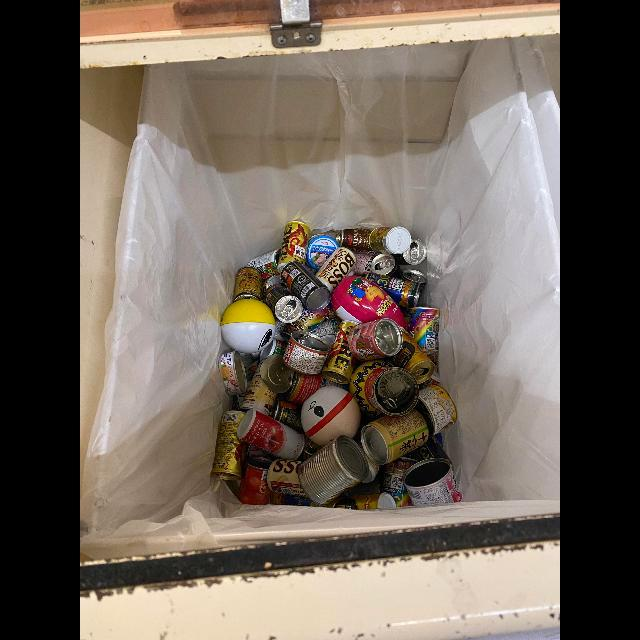aluminum: (299, 435, 367, 504), (361, 410, 428, 465), (237, 409, 305, 461), (403, 458, 463, 506), (365, 366, 420, 416), (211, 411, 250, 480), (390, 326, 435, 384), (281, 261, 331, 312), (348, 317, 403, 362), (323, 320, 359, 384), (283, 330, 331, 375), (414, 385, 457, 435), (239, 360, 277, 415), (280, 303, 332, 342), (283, 372, 343, 405), (366, 272, 421, 308), (315, 247, 357, 293), (382, 457, 419, 507), (237, 457, 274, 505), (410, 308, 440, 366), (277, 221, 310, 273), (267, 459, 308, 497), (264, 285, 303, 323), (323, 492, 397, 510), (336, 228, 383, 256), (219, 350, 247, 395), (269, 399, 305, 434), (261, 354, 293, 393), (305, 234, 339, 270), (369, 226, 412, 254), (247, 248, 281, 283), (233, 266, 262, 303), (402, 269, 427, 307), (392, 239, 427, 265), (371, 253, 403, 279), (261, 274, 291, 298), (260, 338, 288, 360)
